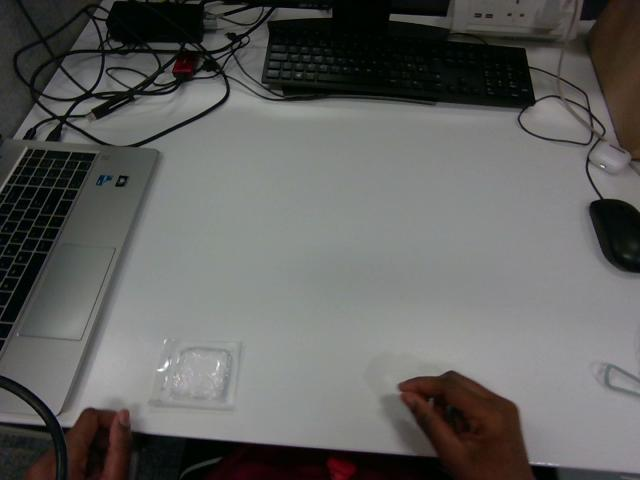gauze: (149, 339, 240, 408)
